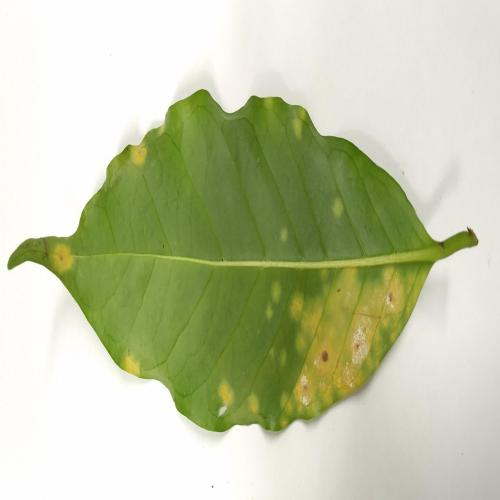phoma: (288, 104, 333, 144)
